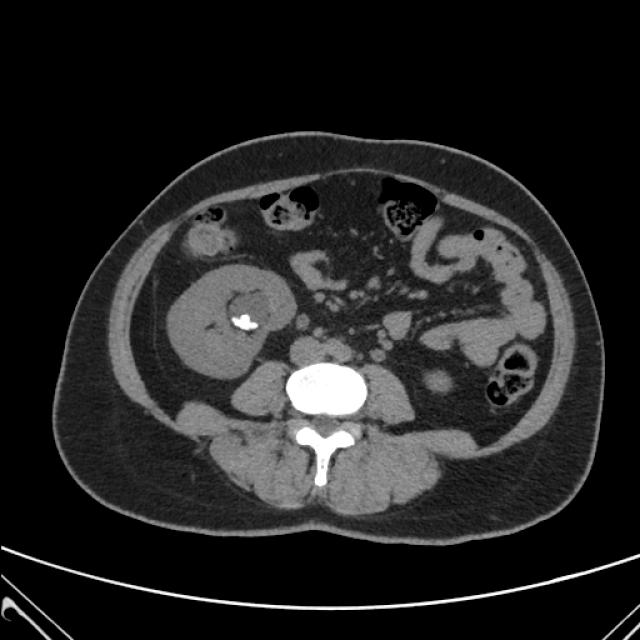kidney: (162, 257, 302, 385), (420, 363, 457, 397)
stone: (229, 306, 262, 336)
